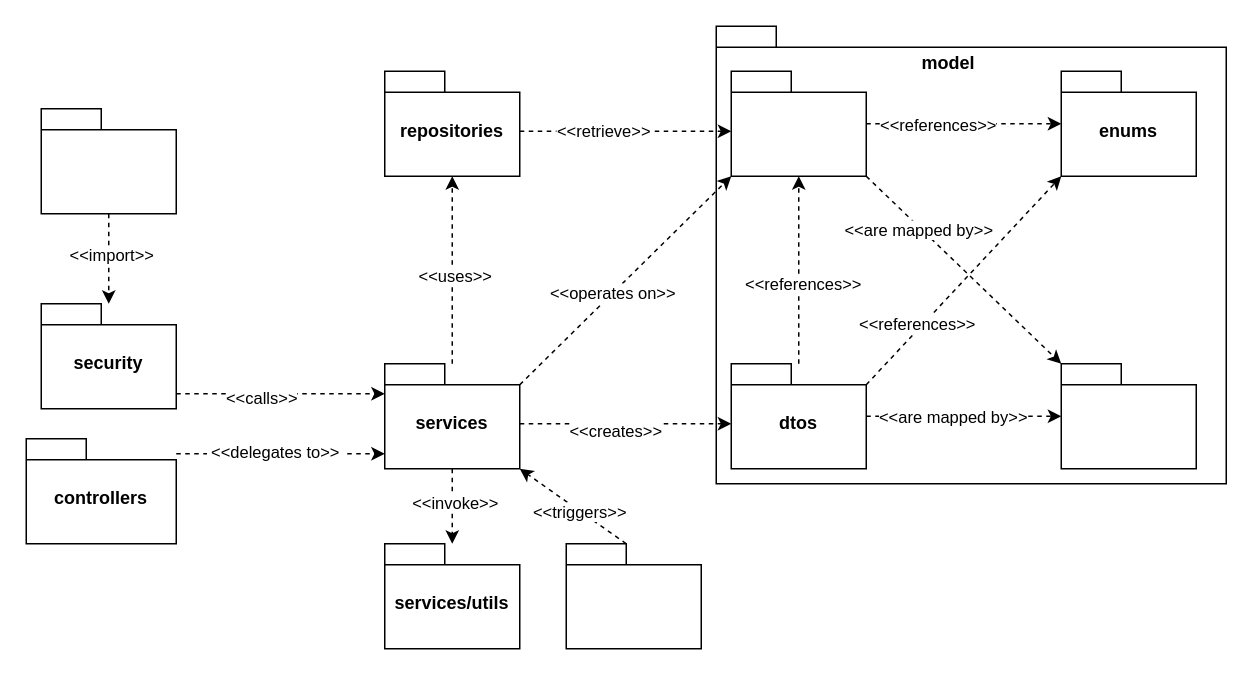
This 1253x675 diagram has some shape labels left out. Here are the shapes that lost their labels. From the top down, the centre of each, then its label:
the point at 798,123: entity
the point at 108,160: config
the point at 1128,415: mappers
the point at 633,595: sceduler
